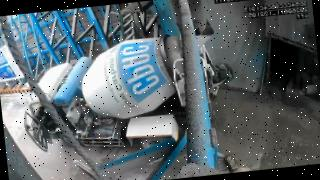cement_mixer_truck: (25, 24, 223, 151)
swing_chute: (173, 0, 206, 33)
